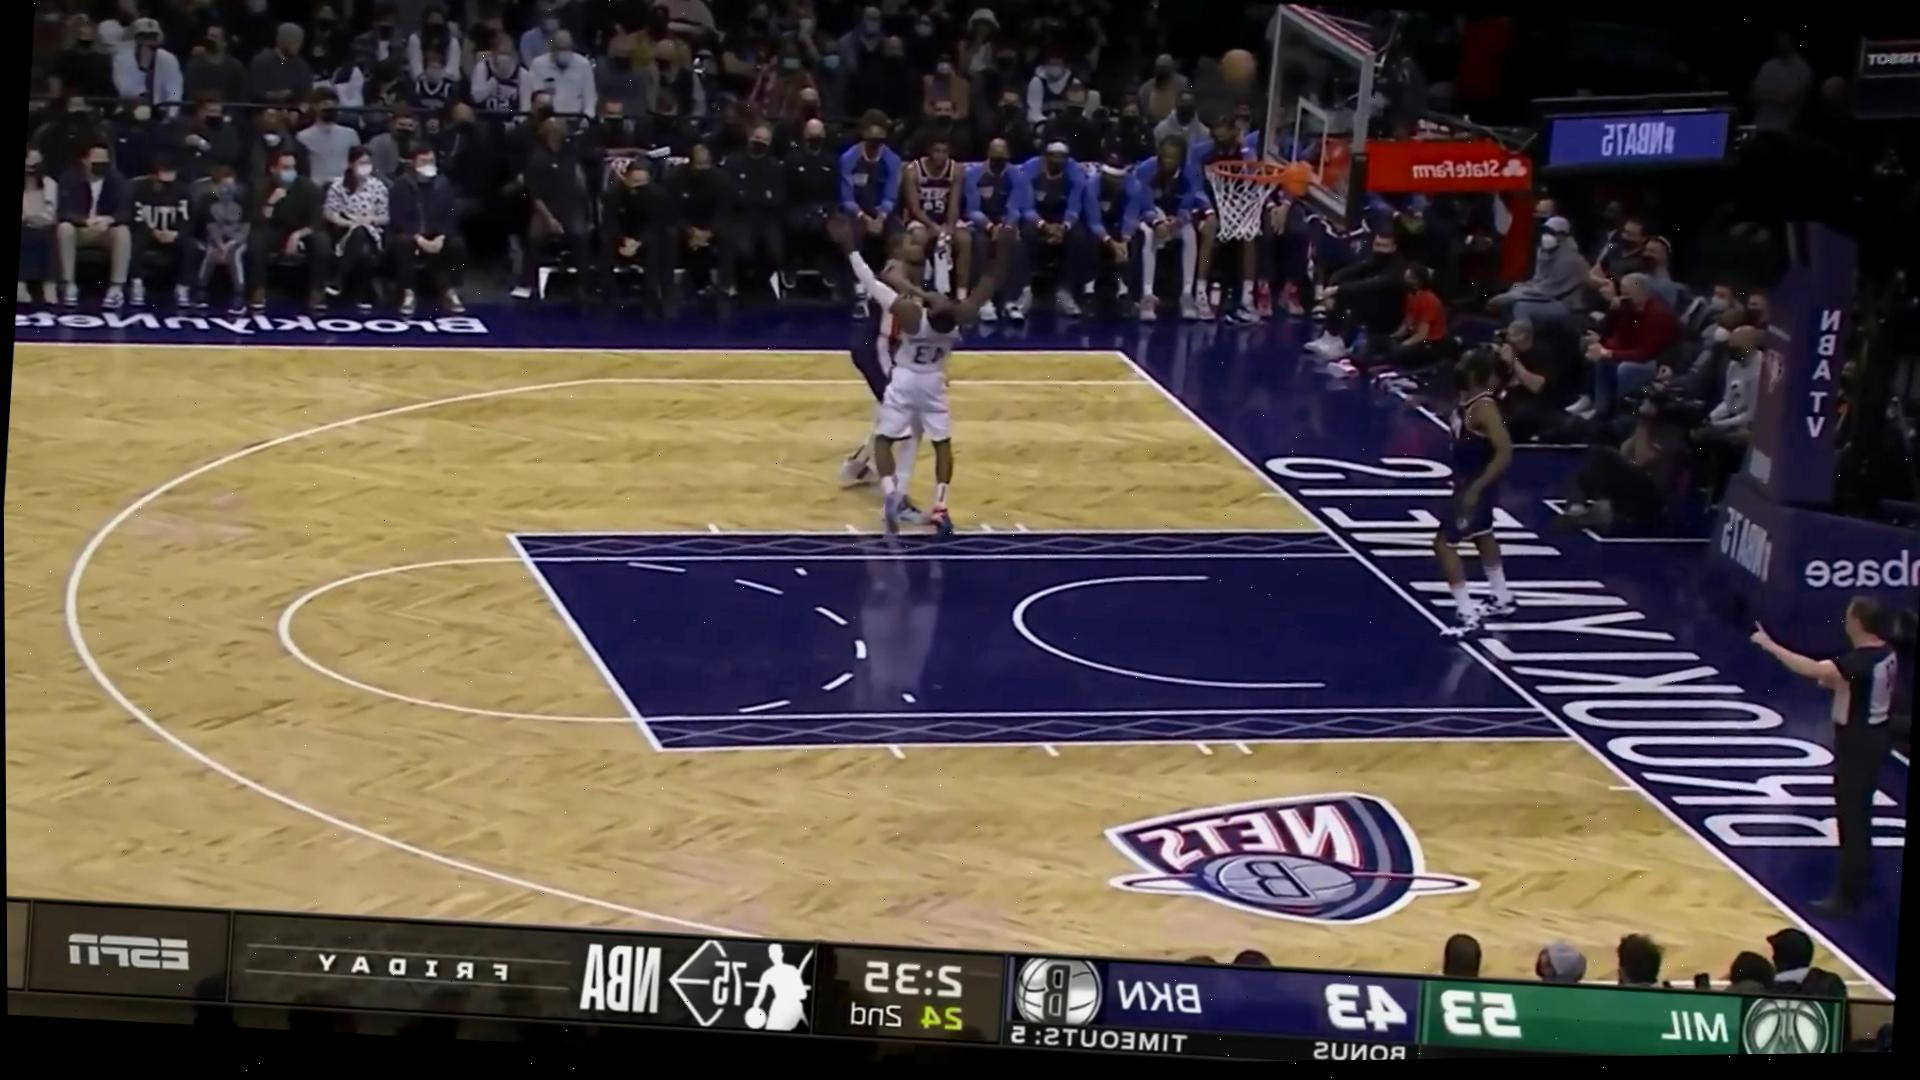foul: (803, 199, 1011, 543)
